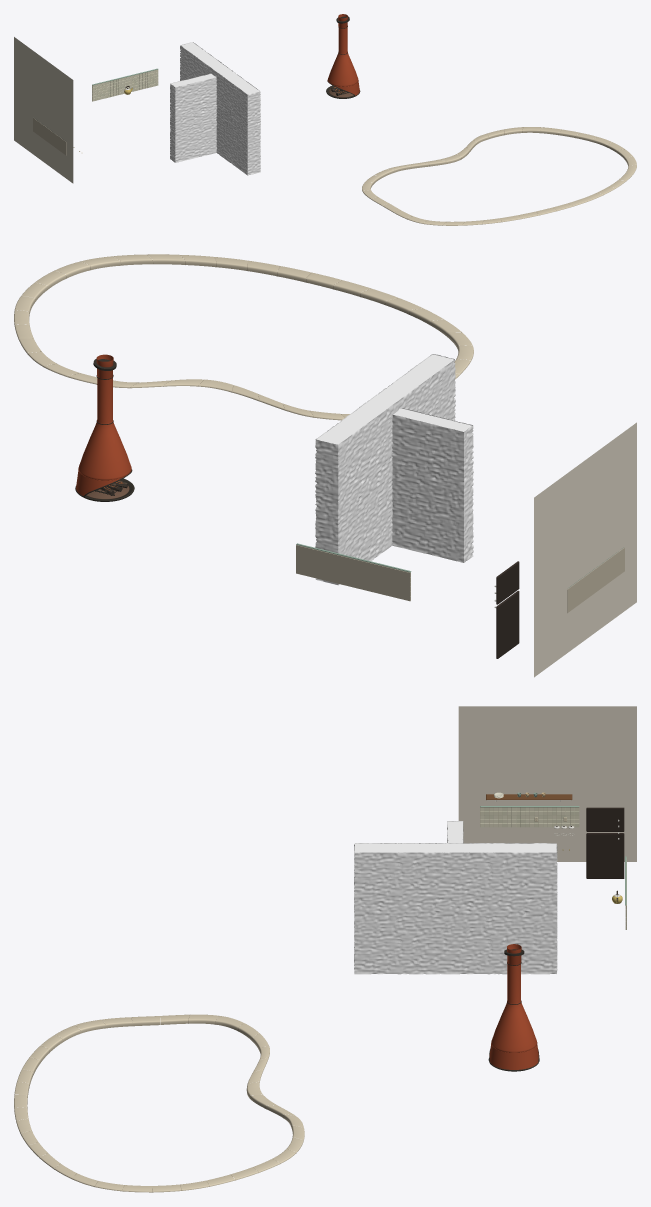
Rendered from architectural-finishes.glb.
3 renders of one model, top to bottom at view 1: azimuth 30°, elevation 25°; view 2: azimuth 150°, elevation 25°; view 3: azimuth 270°, elevation 25°, orthographic. The views are drawn at different scales.
Visible parts, largest first — view 1: Cut ledge stone, Warm ivory kitchen plaster, Coping honed limestone, Fired copper enamel, Soft grey tile grout, Ivory glazed field 1, Ivory glazed field 3, Ivory glazed field 0, Ivory glazed field 2; view 2: Cut ledge stone, Warm ivory kitchen plaster, Coping honed limestone, Soft grey tile grout, Fired copper enamel, Brown bakelite, Heat blackened iron; view 3: Cut ledge stone, Warm ivory kitchen plaster, Coping honed limestone, Fired copper enamel, Brown bakelite, Ivory glazed field 1.
Part boxes in pixels (bbox=[...]): Cut ledge stone: bbox=[170, 42, 260, 175]; Warm ivory kitchen plaster: bbox=[14, 37, 73, 183]; Coping honed limestone: bbox=[362, 127, 636, 225]; Fired copper enamel: bbox=[327, 14, 359, 95]; Soft grey tile grout: bbox=[33, 85, 92, 155]; Ivory glazed field 1: bbox=[95, 70, 158, 99]; Ivory glazed field 3: bbox=[92, 71, 158, 101]; Ivory glazed field 0: bbox=[92, 69, 158, 100]; Ivory glazed field 2: bbox=[92, 74, 158, 96]; Cut ledge stone: bbox=[315, 354, 473, 585]; Warm ivory kitchen plaster: bbox=[534, 422, 636, 677]; Coping honed limestone: bbox=[14, 254, 473, 420]; Soft grey tile grout: bbox=[296, 545, 624, 612]; Fired copper enamel: bbox=[76, 354, 131, 495]; Brown bakelite: bbox=[496, 561, 519, 658]; Heat blackened iron: bbox=[75, 358, 134, 501]; Cut ledge stone: bbox=[354, 821, 557, 974]; Warm ivory kitchen plaster: bbox=[458, 706, 636, 861]; Coping honed limestone: bbox=[14, 1014, 304, 1192]; Fired copper enamel: bbox=[489, 944, 538, 1069]; Brown bakelite: bbox=[556, 807, 624, 899]; Ivory glazed field 1: bbox=[480, 807, 626, 921].
Bounding box in the file's own units: 18.29 × 4.13 × 14.61.
